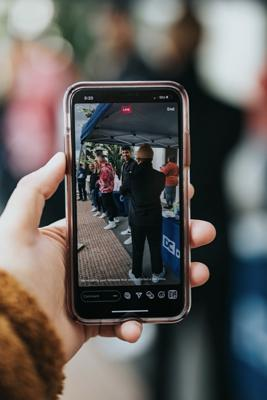cell-phone: (59, 77, 198, 330)
